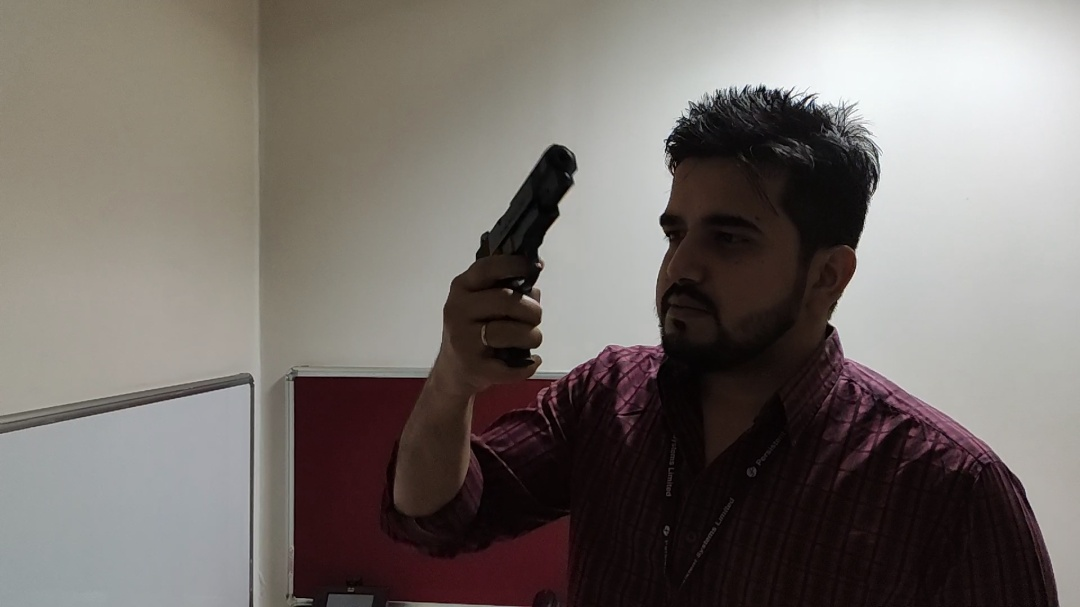gun: (475, 142, 578, 369)
